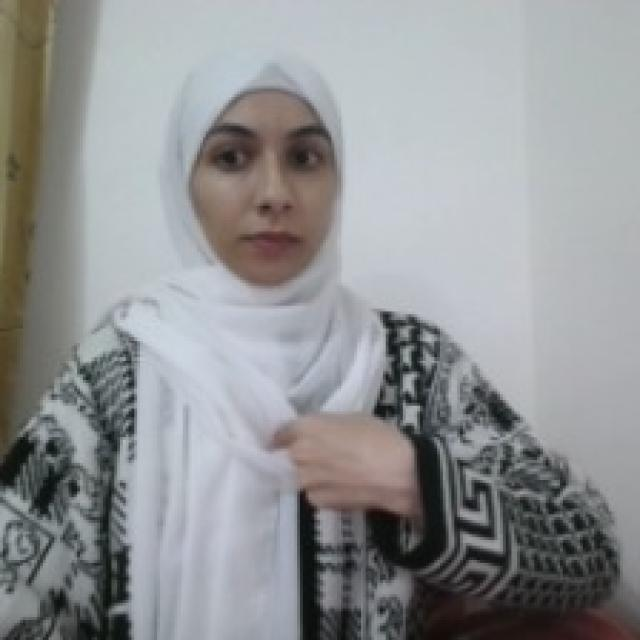me: (266, 404, 419, 520)
